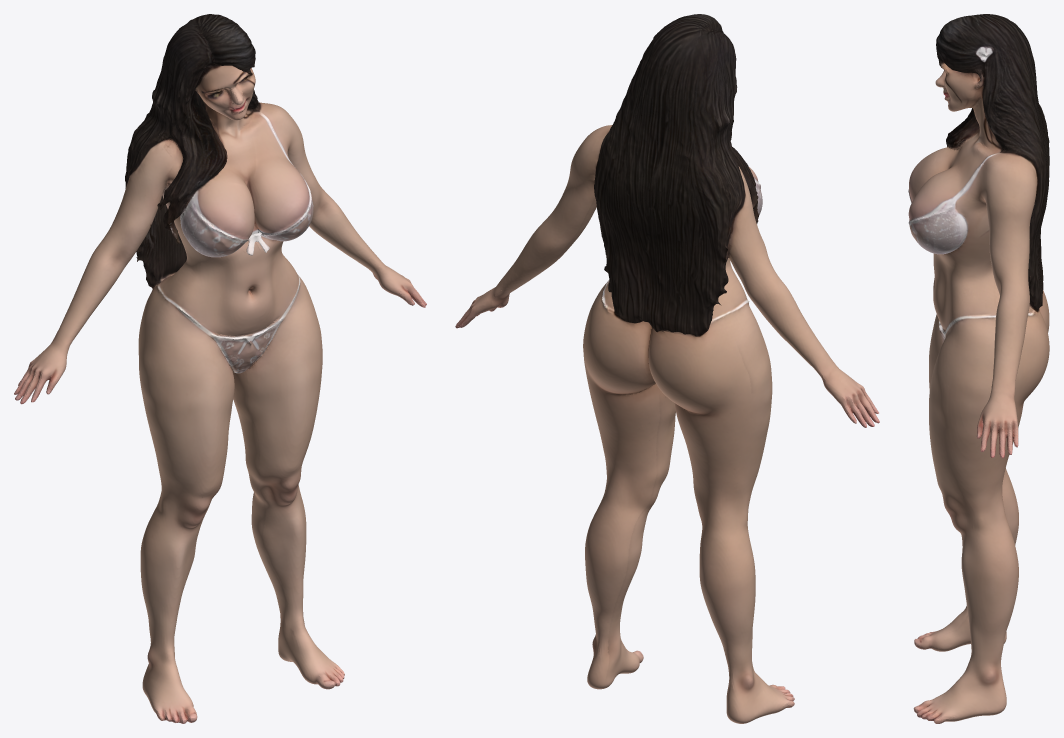
The model's file is base_basic_pbr.glb.
3 views of the same model, side by side, from view 1: azimuth 30°, elevation 25°; view 2: azimuth 150°, elevation 25°; view 3: azimuth 270°, elevation 25° (orthographic). The views are drawn at different scales.
Visible parts, largest first — view 1: model; view 2: model; view 3: model.
Part boxes in pixels (x1,y1,x2,y2): model: (14,14,426,723); model: (455,14,879,723); model: (908,14,1049,723).
Size of the model in its own units: 0.6371 by 1 by 0.1944.
Materials: 1 (1 with a texture image).
